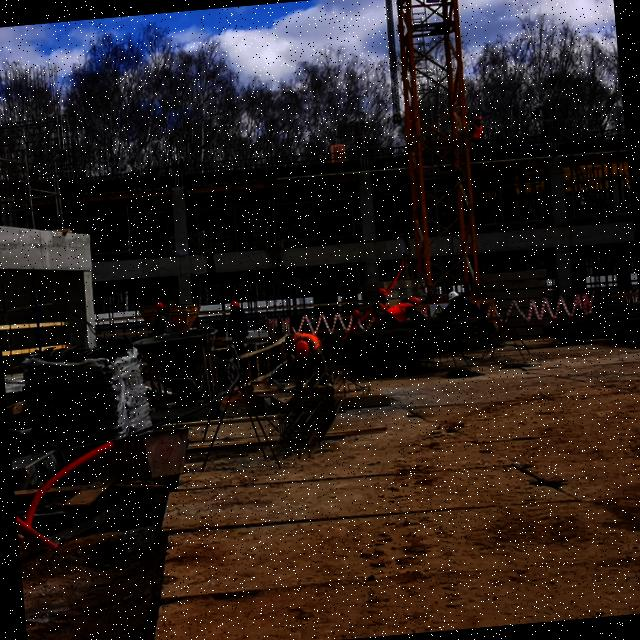Helmet: (293, 340, 311, 361), (447, 291, 461, 305), (377, 288, 390, 301), (408, 296, 422, 308), (229, 302, 240, 312), (155, 302, 166, 312), (474, 116, 483, 125)
